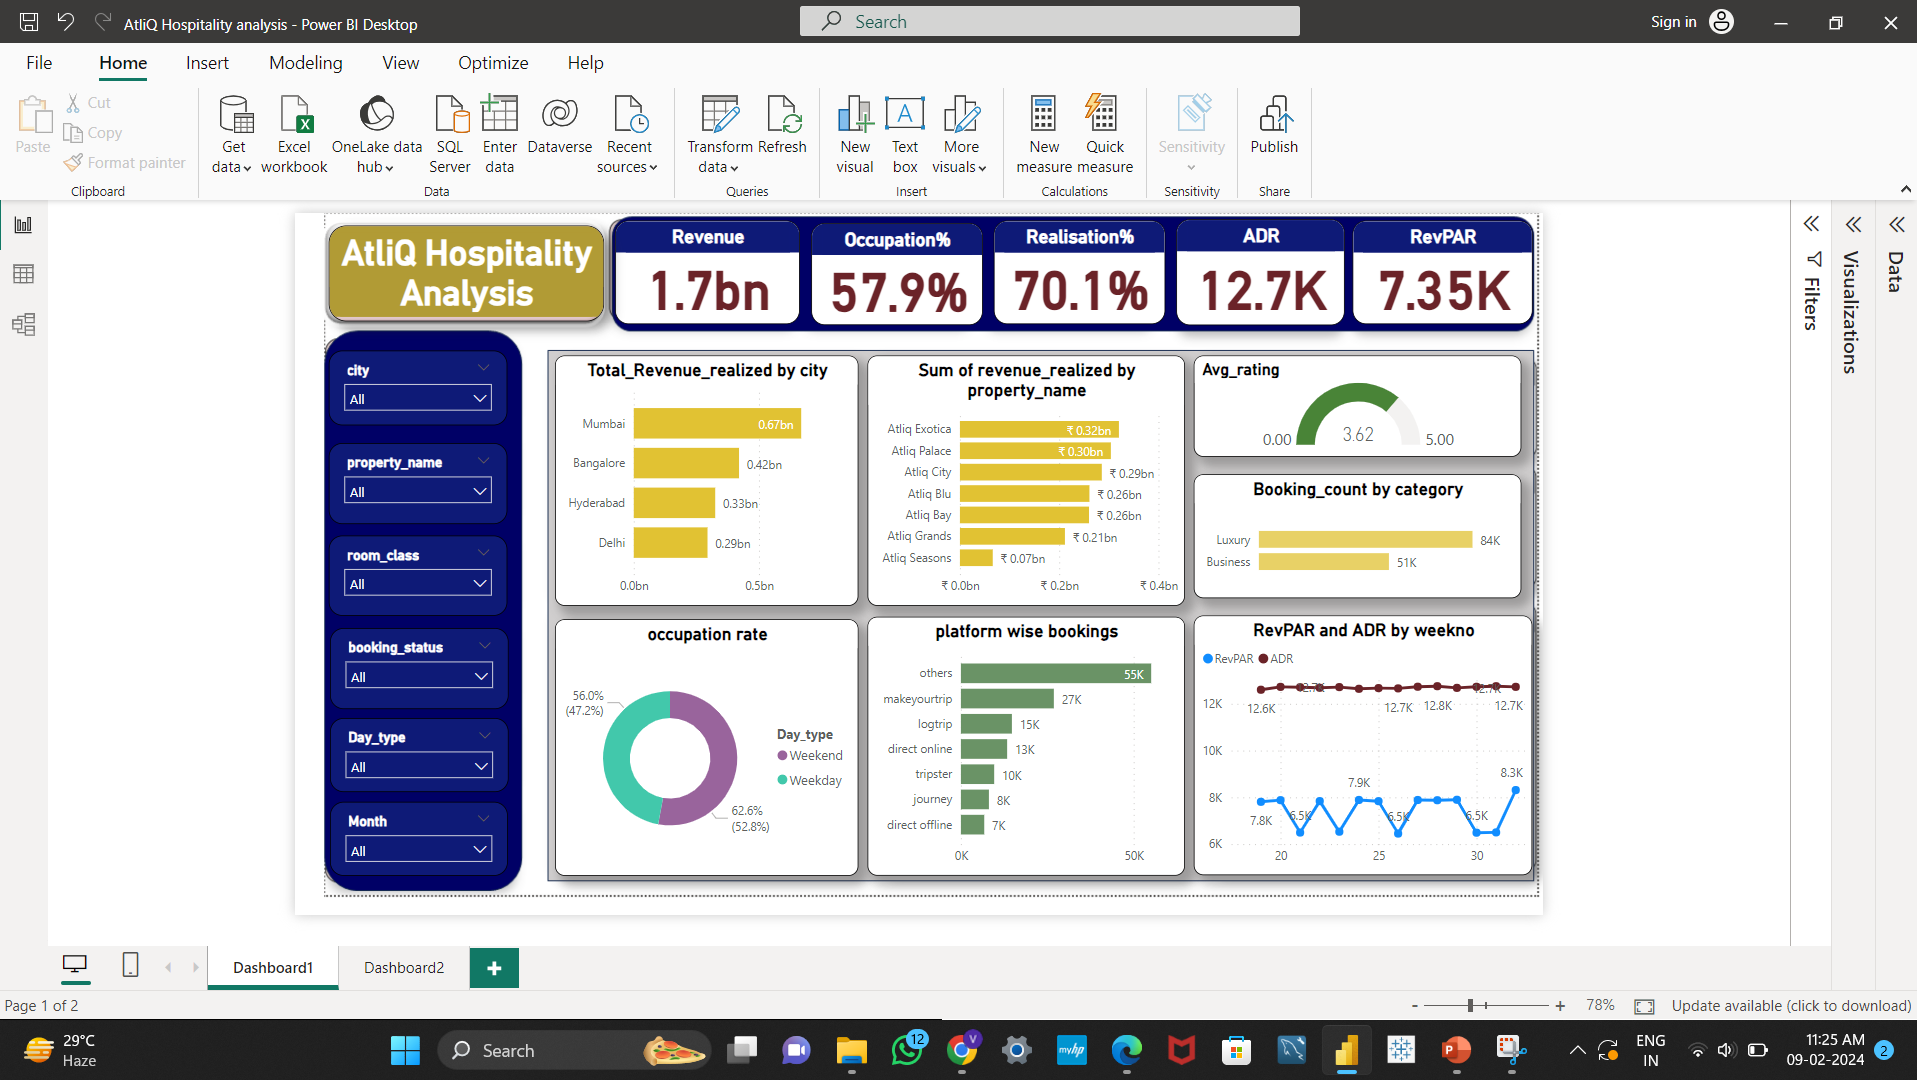

Layout of this report page (visuals, bound fields, positions):
{"tool":"powerbi","page":{"name":"Dashboard1","canvas":[1280,720],"ordinal":0},"visuals":[{"type":"card","title":"Revenue","fields":{"Values":["Measures table.Total_Revenue_realized"]},"box":[328.2,7.7,189.7,106.4],"z":0},{"type":"card","title":"Occupation%","fields":{"Values":["Measures table.occupation%"]},"box":[529.5,10.3,175.6,105.1],"z":1000},{"type":"card","title":"RevPAR","fields":{"Values":["Measures table.RevPAR"]},"box":[1084.6,7.7,184.6,106.4],"z":2000},{"type":"card","title":"ADR","fields":{"Values":["Measures table.ADR"]},"box":[903.8,6.4,173.1,109],"z":3000},{"type":"card","title":"Realisation%","fields":{"Values":["Measures table.realization%"]},"box":[716.7,7.7,175.6,106.4],"z":4000},{"type":"slicer","fields":{"Values":["dim_hotels.city"]},"box":[34.6,141,183.3,76.9],"z":5000},{"type":"slicer","fields":{"Values":["dim_hotels.property_name"]},"box":[34.6,235.9,183.3,83.3],"z":6000},{"type":"slicer","fields":{"Values":["dim_rooms.room_class"]},"box":[34.6,330.8,183.3,82.1],"z":7000},{"type":"slicer","fields":{"Values":["fact_bookings.booking_status"]},"box":[35.9,425.6,183.3,83.3],"z":8000},{"type":"slicer","fields":{"Values":["dim_date.Day_type"]},"box":[35.9,517.9,183.3,75.6],"z":9000},{"type":"clusteredBarChart","fields":{"Category":["dim_hotels.city"],"Y":["Measures table.Total_Revenue_realized"]},"box":[266.7,146.2,311.5,256.4],"z":10000},{"type":"barChart","fields":{"Category":["dim_hotels.property_name"],"Y":["Sum(fact_bookings.revenue_realized)"]},"box":[587.2,146.2,325.6,256.4],"z":11000},{"type":"barChart","fields":{"Category":["dim_hotels.category"],"Y":["Measures table.Booking_count"]},"box":[921.8,267.9,335.9,126.9],"z":12000},{"type":"gauge","fields":{"Y":["Measures table.Avg_rating"]},"box":[921.8,146.2,335.9,103.8],"z":13000},{"type":"textbox","title":"AtliQ Hospitality Analysis","box":[34.6,12.8,282.1,98.7],"z":14000},{"type":"donutChart","title":"occupation rate","fields":{"Category":["dim_date.Day_type"],"Y":["Measures table.occupation%"]},"box":[266.7,416.7,311.5,262.8],"z":15000},{"type":"barChart","title":"platform wise bookings","fields":{"Category":["fact_bookings.booking_platform"],"Y":["Measures table.Booking_count"]},"box":[587.2,414.1,325.6,265.4],"z":16000},{"type":"lineChart","fields":{"Category":["dim_date.weekno"],"Y":["Measures table.RevPAR","Measures table.ADR"]},"box":[921.8,412.8,347.4,266.7],"z":17000},{"type":"slicer","fields":{"Values":["dim_date.date.Variation.Date Hierarchy.Month"]},"box":[35.9,603.8,182.1,75.6],"z":19000}]}

Visuals, with their boxes on the page's 1280x720 design canvas (x1, y1, x2, y2). These are canvas units, not pixel positions in the 1917x1080 screenshot, which may show the page scaled, cropped or inside an application window:
"Revenue" card: <box>328,8,518,114</box>
"Occupation%" card: <box>530,10,705,115</box>
"RevPAR" card: <box>1085,8,1269,114</box>
"ADR" card: <box>904,6,1077,115</box>
"Realisation%" card: <box>717,8,892,114</box>
slicer - dim_hotels.city: <box>35,141,218,218</box>
slicer - dim_hotels.property_name: <box>35,236,218,319</box>
slicer - dim_rooms.room_class: <box>35,331,218,413</box>
slicer - fact_bookings.booking_status: <box>36,426,219,509</box>
slicer - dim_date.Day_type: <box>36,518,219,594</box>
clusteredBarChart - dim_hotels.city x Measures table.Total_Revenue_realized: <box>267,146,578,403</box>
barChart - dim_hotels.property_name x Sum(fact_bookings.revenue_realized): <box>587,146,913,403</box>
barChart - dim_hotels.category x Measures table.Booking_count: <box>922,268,1258,395</box>
gauge - Measures table.Avg_rating: <box>922,146,1258,250</box>
"AtliQ Hospitality Analysis" textbox: <box>35,13,317,112</box>
"occupation rate" donutChart: <box>267,417,578,680</box>
"platform wise bookings" barChart: <box>587,414,913,680</box>
lineChart - dim_date.weekno x Measures table.RevPAR: <box>922,413,1269,680</box>
slicer - dim_date.date.Variation.Date Hierarchy.Month: <box>36,604,218,679</box>
